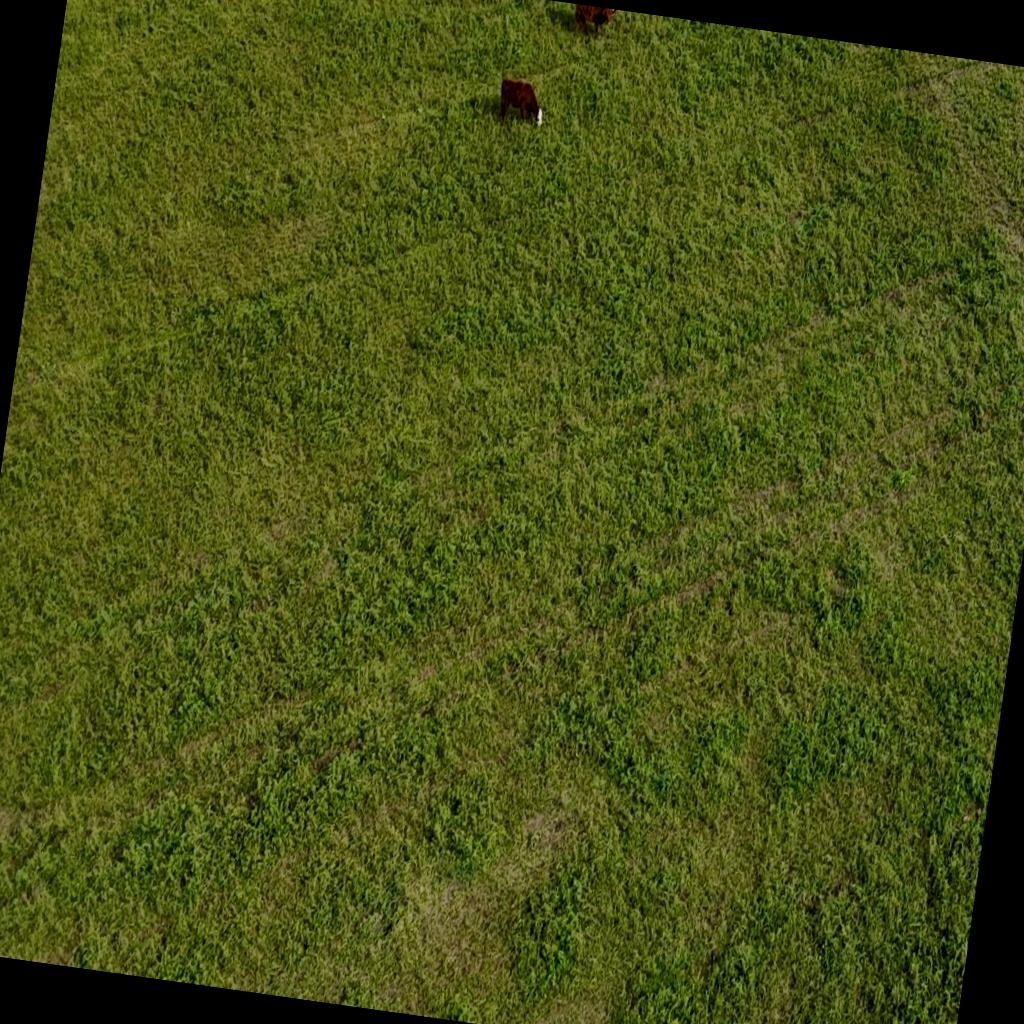cow: (494, 72, 551, 131), (570, 4, 622, 43)
